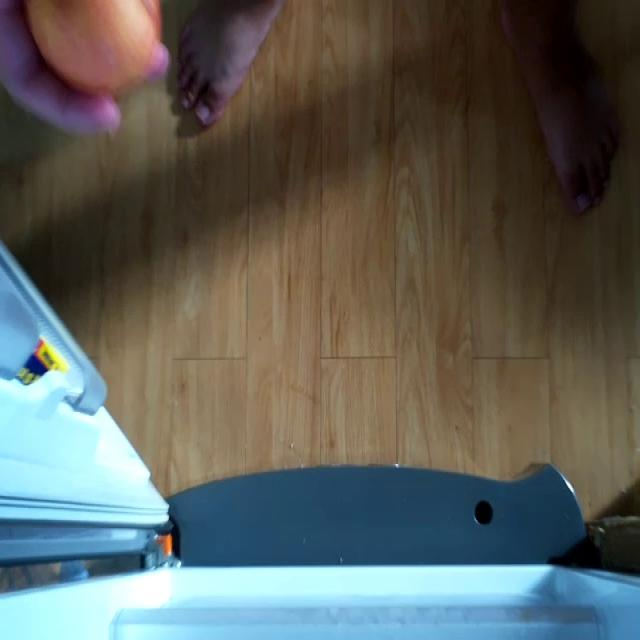apple: (20, 0, 161, 95)
